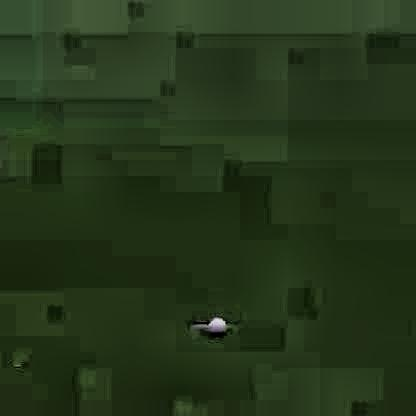golfball: (206, 314, 224, 334)
